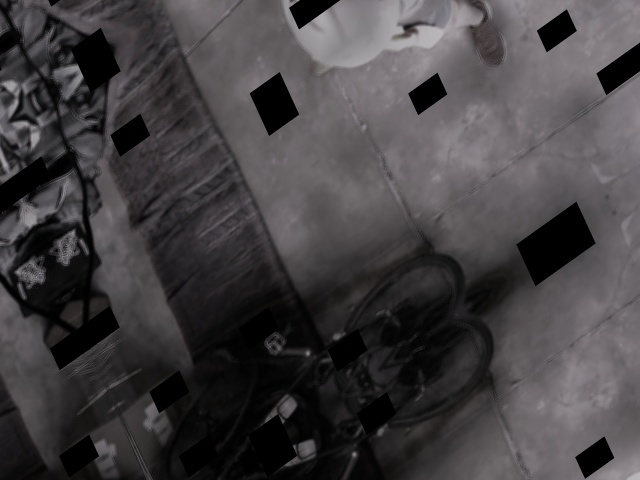three: (277, 0, 325, 4)
